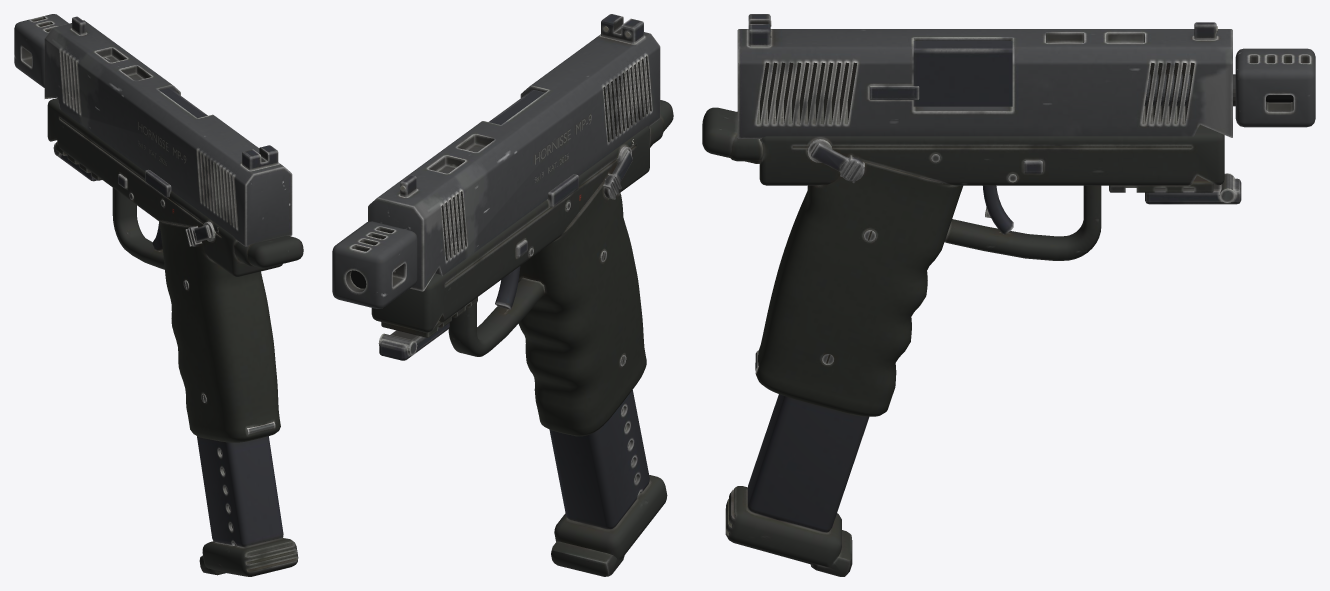
File: hornet.glb
3 views of the same model, side by side, from view 1: azimuth 30°, elevation 25°; view 2: azimuth 150°, elevation 25°; view 3: azimuth 270°, elevation 25° (orthographic). The views are drawn at different scales.
Parts seen in each view (by area): view 1: Body, Breech, Magazine; view 2: Body, Breech, Magazine; view 3: Body, Breech, Magazine.
Part boxes in pixels (left/top/right/bottom): Body: left=14, top=14, right=303, bottom=442; Breech: left=44, top=16, right=292, bottom=246; Magazine: left=197, top=436, right=298, bottom=576; Body: left=332, top=90, right=673, bottom=436; Breech: left=368, top=14, right=660, bottom=291; Magazine: left=549, top=390, right=667, bottom=576; Body: left=702, top=41, right=1315, bottom=416; Breech: left=737, top=14, right=1232, bottom=138; Magazine: left=725, top=394, right=869, bottom=576.
Bounding box in the file's own units: 0.0334 × 0.2177 × 0.2228.
Materials: 1 (1 with a texture image).
